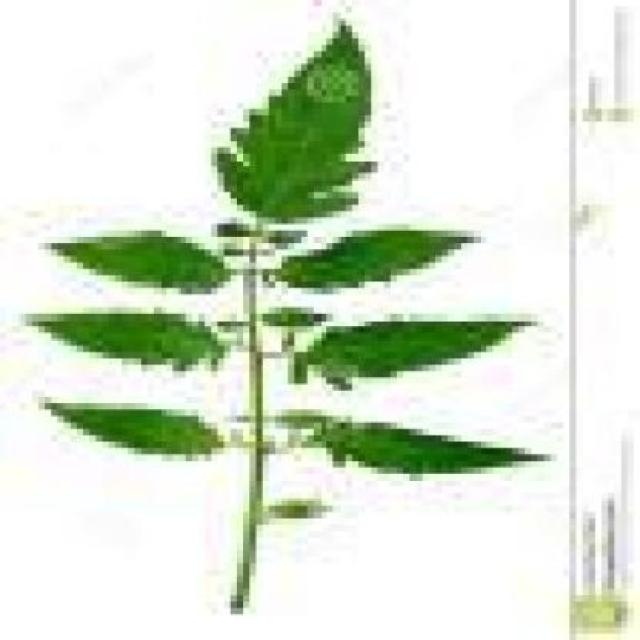Tomato leaf bacterial spot: (204, 26, 390, 231), (308, 300, 550, 397), (294, 411, 557, 494), (26, 384, 257, 474), (257, 225, 500, 308), (6, 302, 263, 378), (38, 218, 231, 296)
